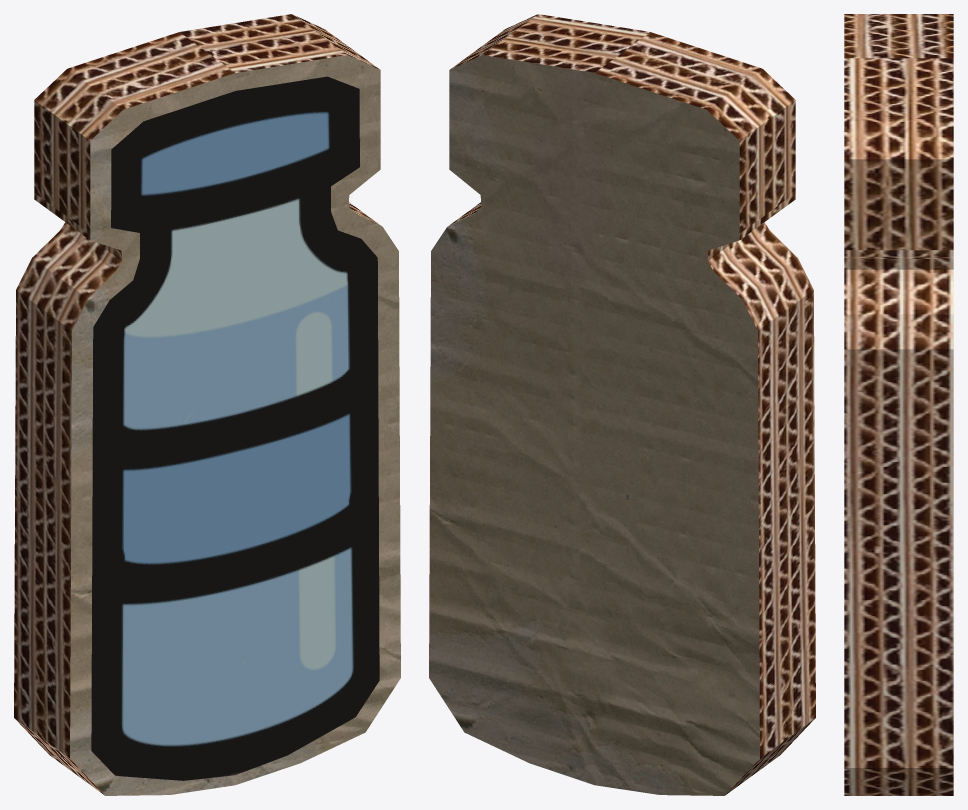
File: bottle2.fbx
3 views of the same model, side by side, from view 1: azimuth 30°, elevation 25°; view 2: azimuth 150°, elevation 25°; view 3: azimuth 270°, elevation 25° (orthographic). The views are drawn at different scales.
Visible parts, largest first — view 1: bottle2; view 2: bottle2; view 3: bottle2.
Boxes of the visible parts, bbox=[...] form: bottle2: bbox=[14, 14, 400, 795]; bottle2: bbox=[429, 14, 815, 795]; bottle2: bbox=[844, 14, 953, 795].
Bounding box in the file's own units: 27.29 × 56.12 × 8.
